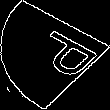P_SE: (12, 25, 98, 85)
